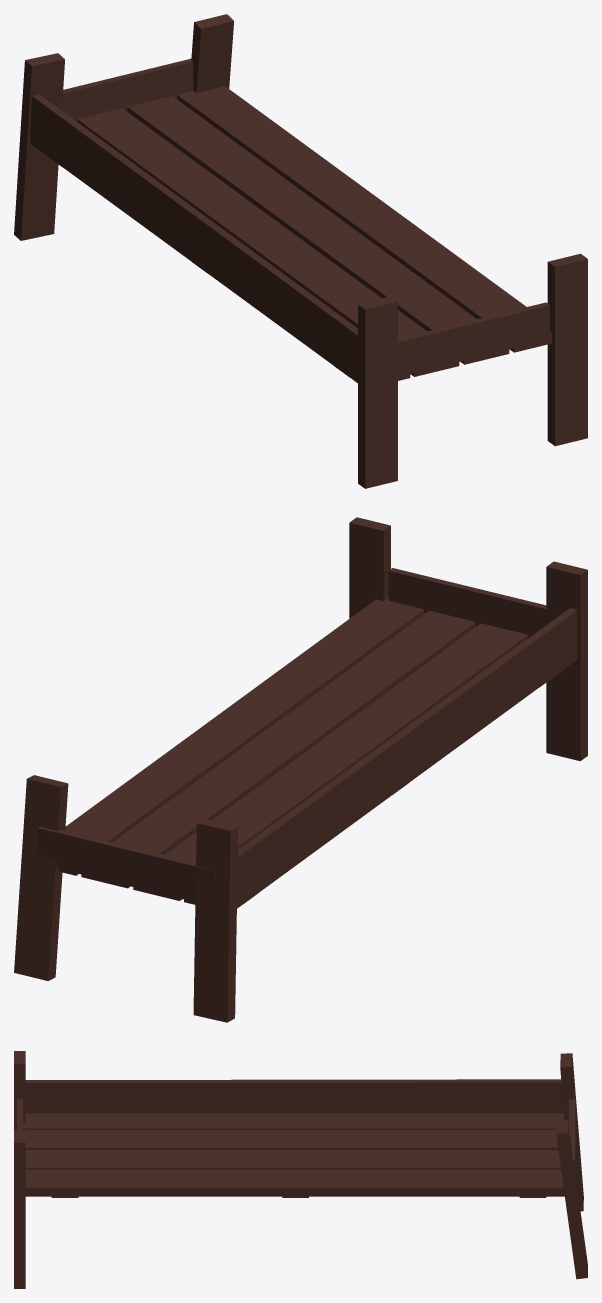
The model's file is SM_Bed.fbx.
3 renders of one model, top to bottom at view 1: azimuth 30°, elevation 25°; view 2: azimuth 150°, elevation 25°; view 3: azimuth 270°, elevation 25°, orthographic. The views are drawn at different scales.
Parts seen in each view (by area): view 1: Bed; view 2: Bed; view 3: Bed.
Boxes of the visible parts, x1,y1,x2,y2 form: Bed: (14, 14, 587, 488); Bed: (14, 517, 587, 1022); Bed: (14, 1051, 587, 1288).
Bounding box in the file's own units: 5.01 × 3.9 × 13.58.
